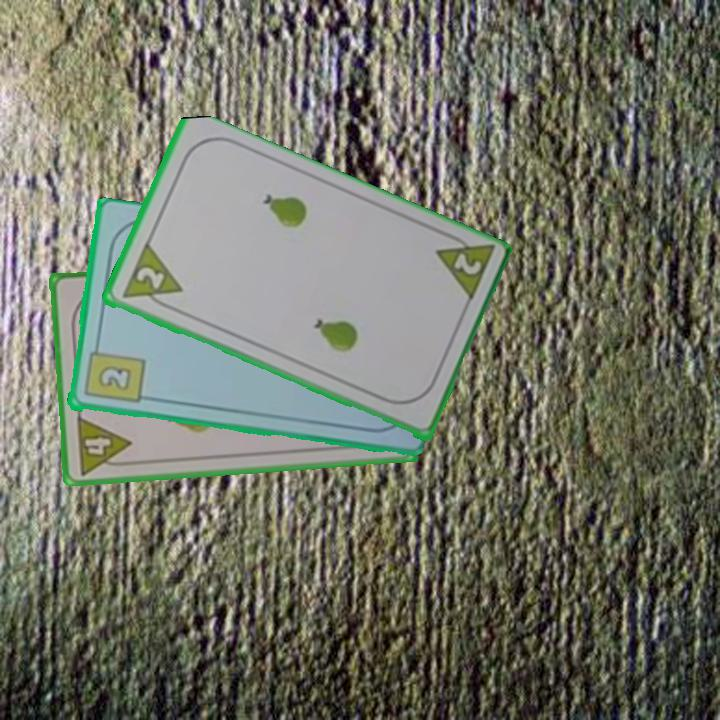2b: (80, 339, 147, 407)
2p: (431, 227, 497, 307), (117, 241, 185, 315)
4p: (72, 412, 135, 478)
